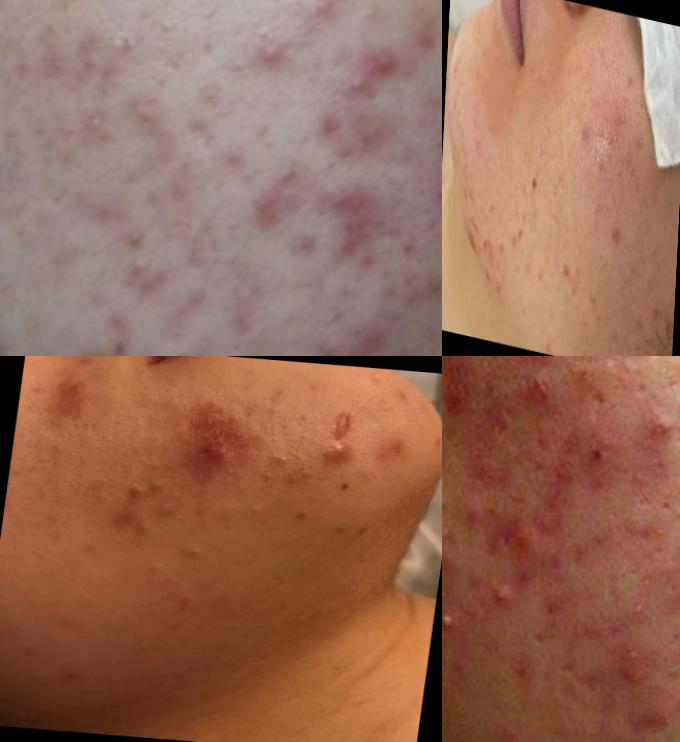acne_scars: (323, 53, 433, 125), (320, 192, 407, 282), (322, 409, 364, 445), (464, 206, 484, 261), (480, 237, 498, 290), (608, 218, 629, 259), (509, 219, 528, 259), (558, 252, 576, 291)
blackhead: (178, 532, 220, 568), (144, 550, 172, 581), (252, 470, 281, 497), (276, 447, 297, 475), (588, 85, 601, 117)
papular: (39, 366, 103, 433), (179, 424, 244, 480), (459, 446, 521, 501), (607, 643, 669, 697), (443, 357, 485, 424), (507, 520, 550, 575), (630, 410, 680, 456), (630, 691, 680, 736), (311, 440, 361, 469), (511, 357, 575, 377)
purulent: (443, 594, 480, 648), (483, 575, 525, 614)
sebo-crystan-conglo: (514, 365, 569, 426)
whitehead: (69, 98, 144, 172), (110, 243, 172, 303), (261, 148, 335, 198), (255, 24, 299, 93), (98, 30, 163, 68), (124, 633, 160, 674), (242, 495, 273, 528), (603, 118, 621, 161), (148, 478, 175, 500), (548, 174, 564, 210), (128, 476, 147, 506)
